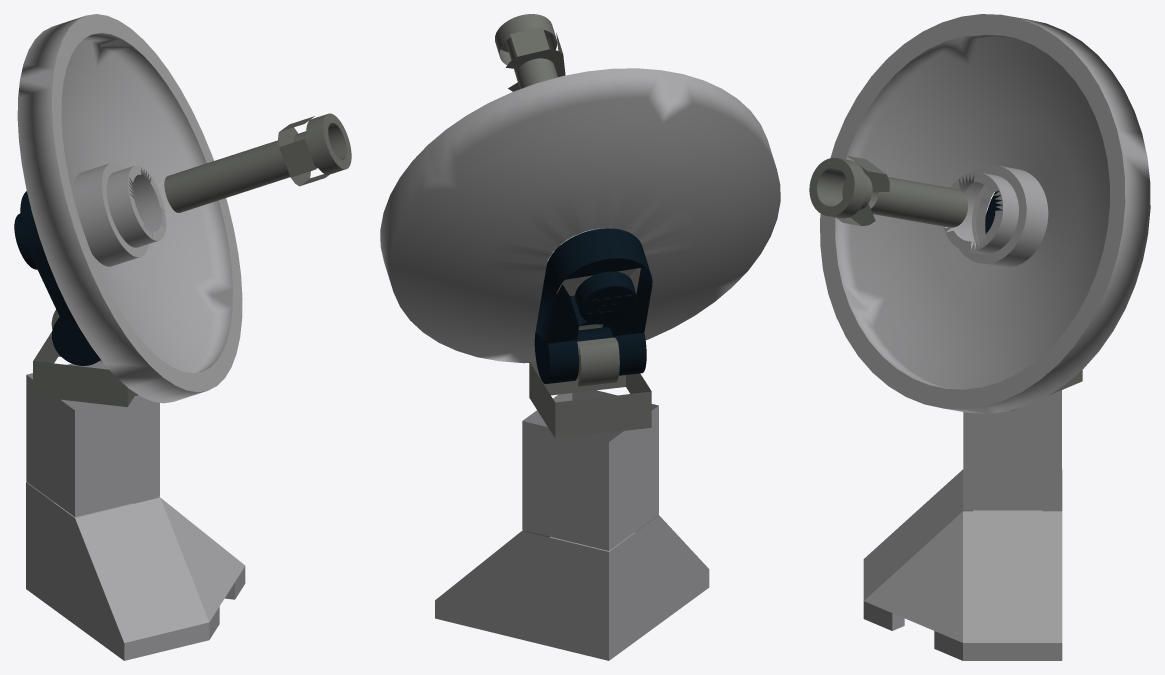
File: endor-shield-planet.glb
The picture shows the model from 3 angles, left to right: view 1: azimuth 30°, elevation 25°; view 2: azimuth 150°, elevation 25°; view 3: azimuth 270°, elevation 25°; orthographic projection. The views are drawn at different scales.
Parts seen in each view (by area): view 1: 13548.dat; view 2: 13548.dat; view 3: 13548.dat.
Boxes of the visible parts, left/top/right/bottom form: 13548.dat: left=14, top=14, right=351, bottom=660; 13548.dat: left=380, top=14, right=780, bottom=660; 13548.dat: left=809, top=14, right=1150, bottom=660.
Bounding box in the file's own units: 0.6838 × 1.25 × 0.6835.
